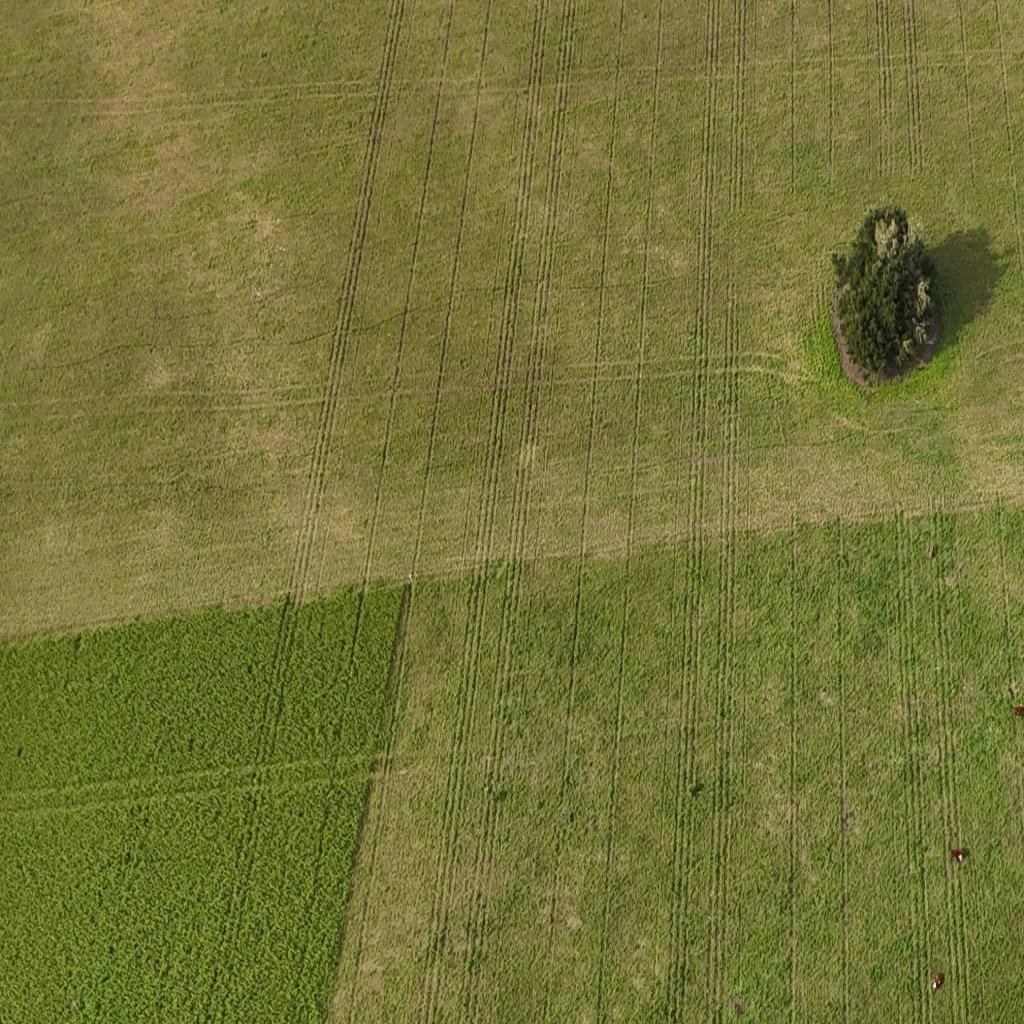cow: (949, 844, 967, 864), (930, 969, 944, 992), (1012, 701, 1024, 721)
